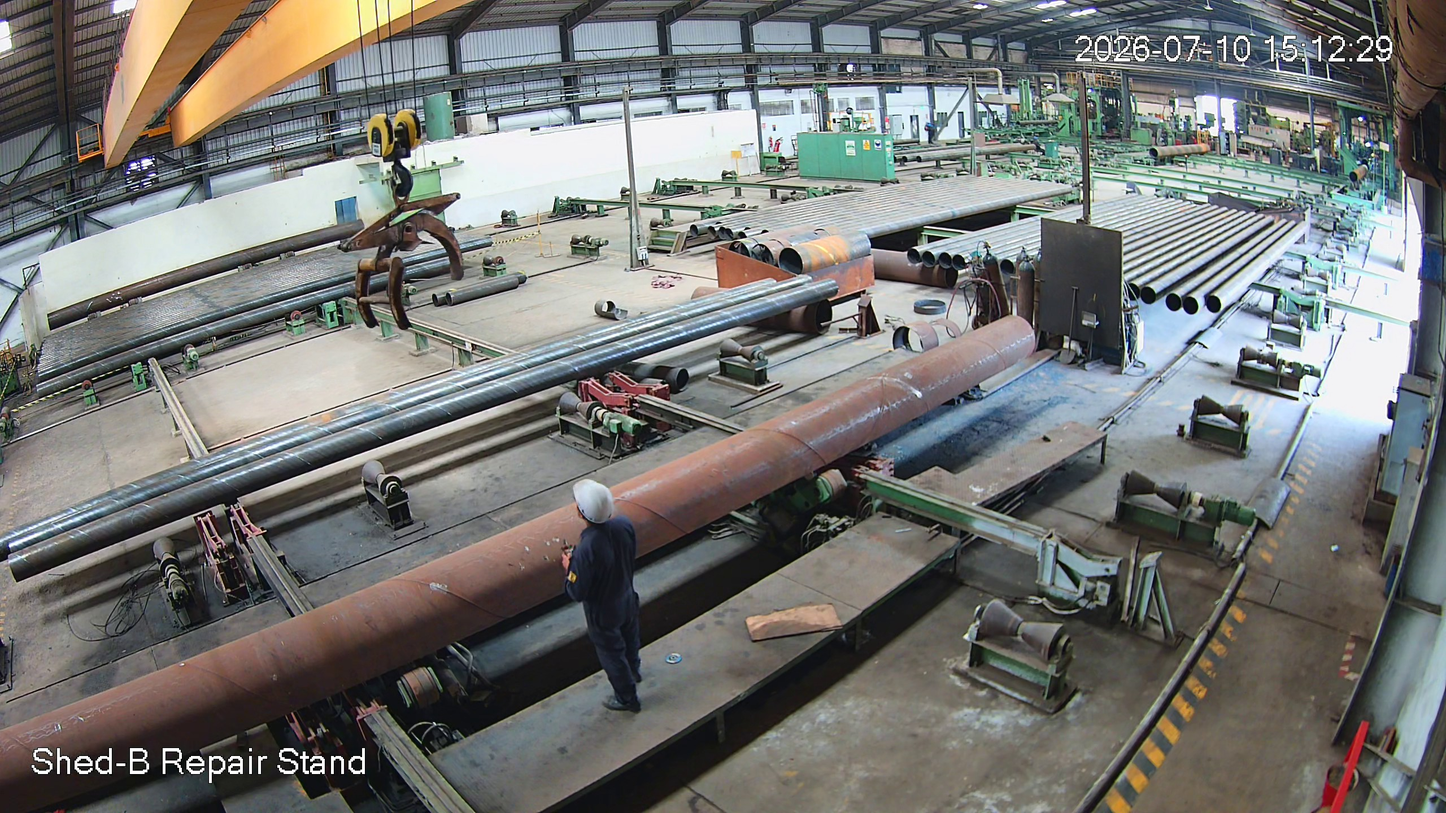Helmet: (566, 475, 641, 548)
Person: (549, 483, 667, 709)
